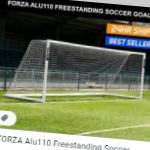goals: (3, 37, 150, 103)
